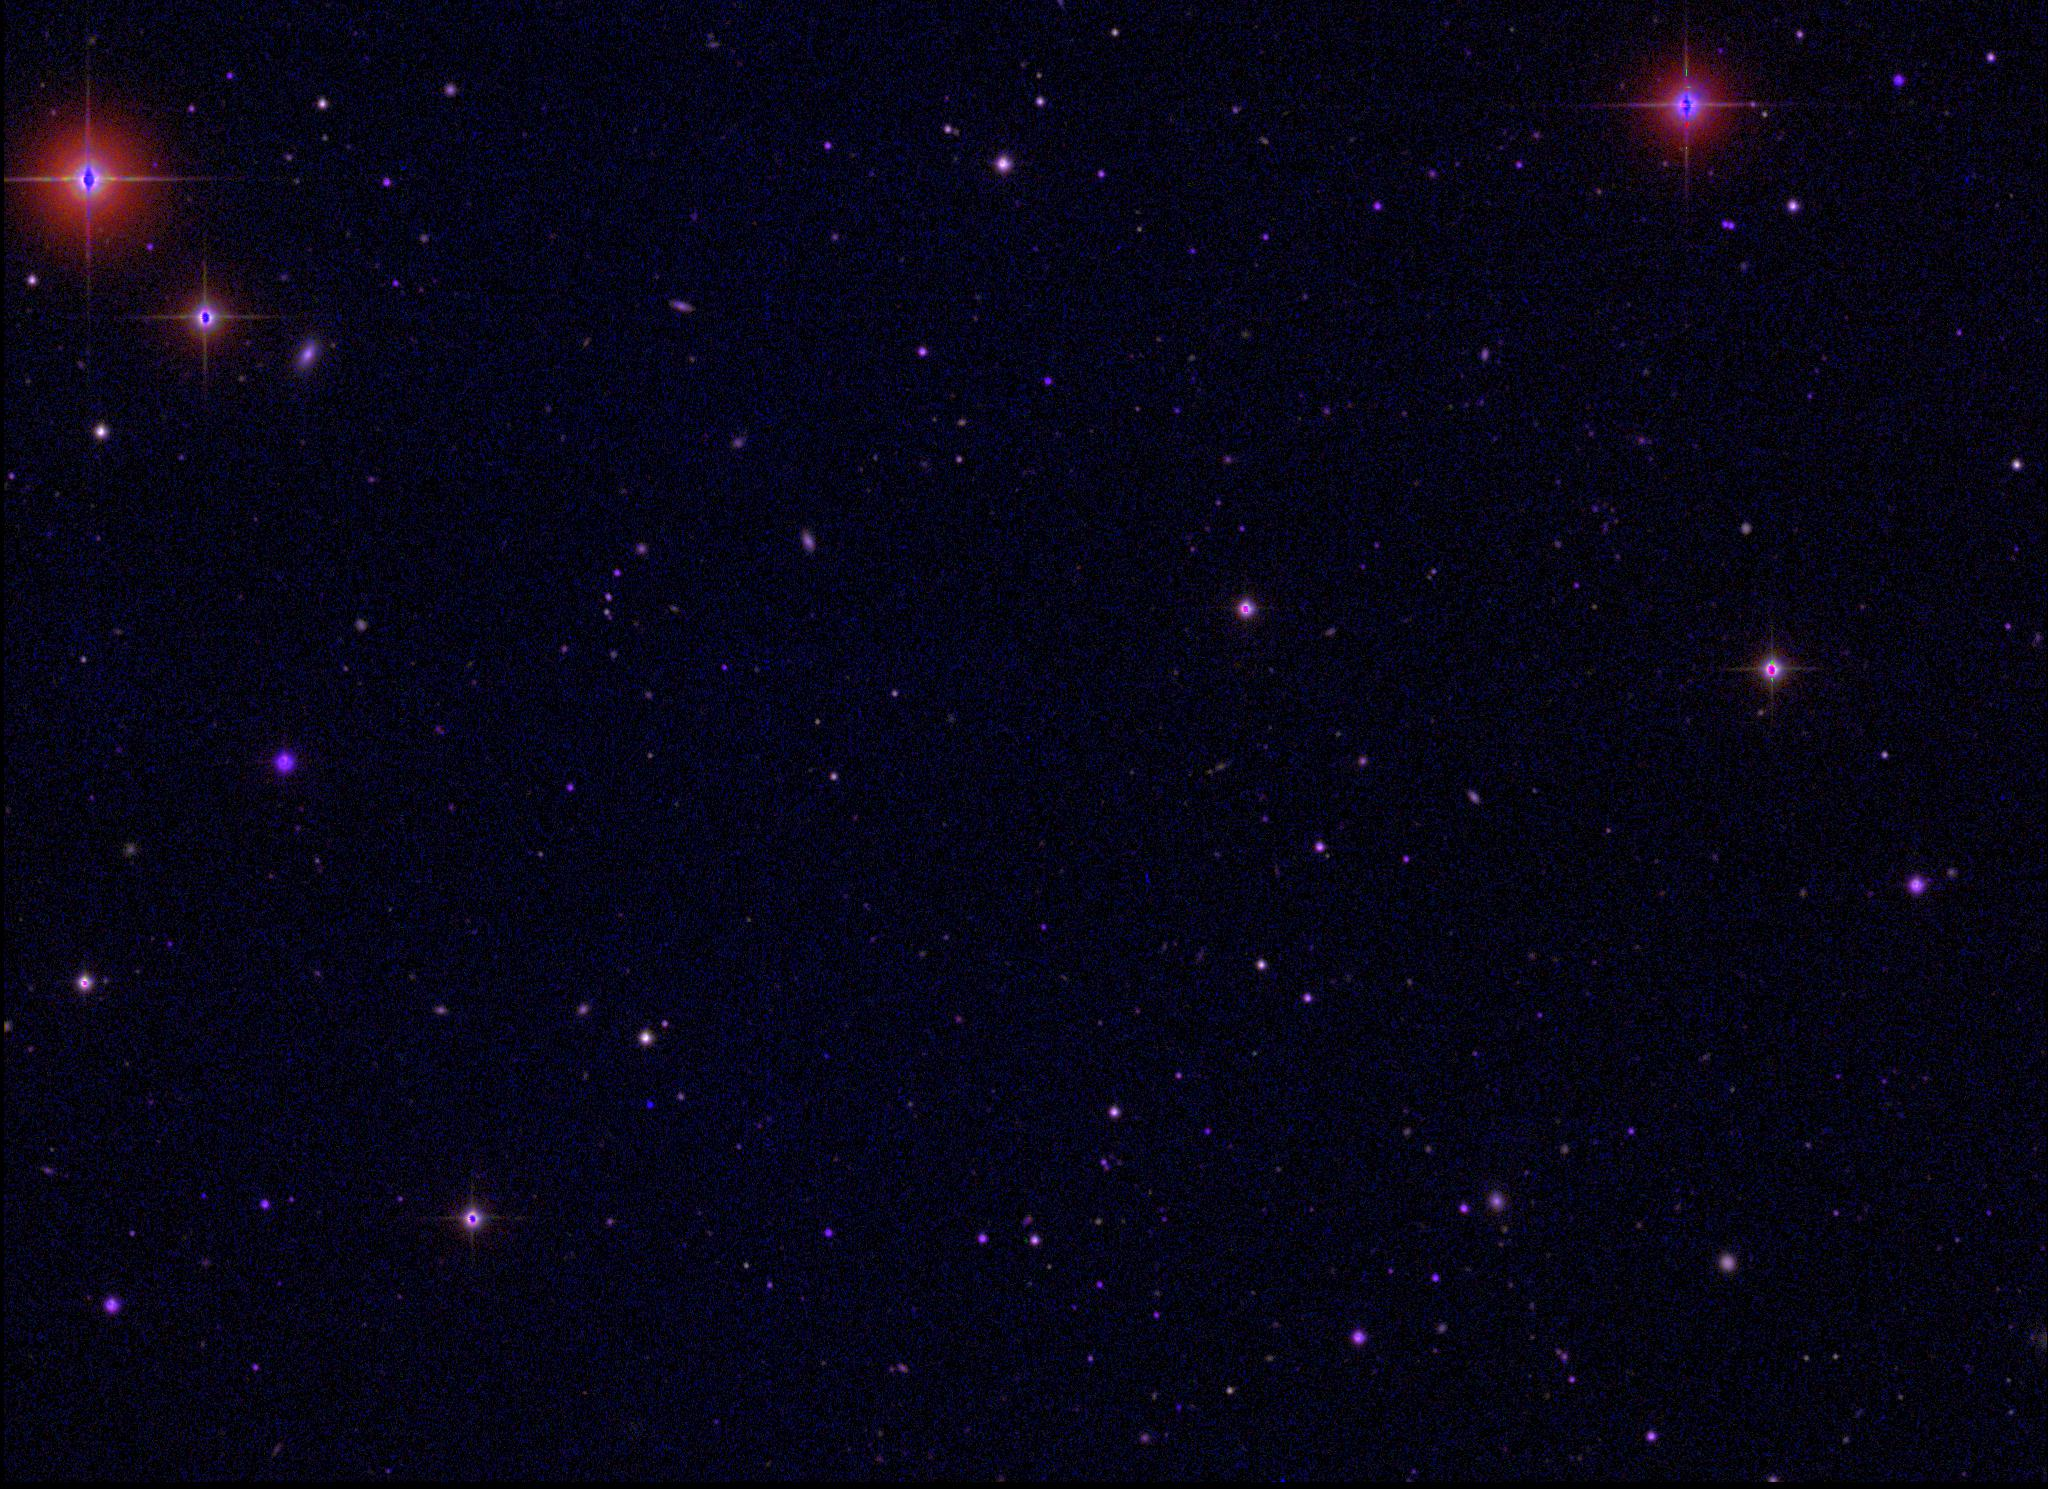L: (642, 1094, 657, 1107)
